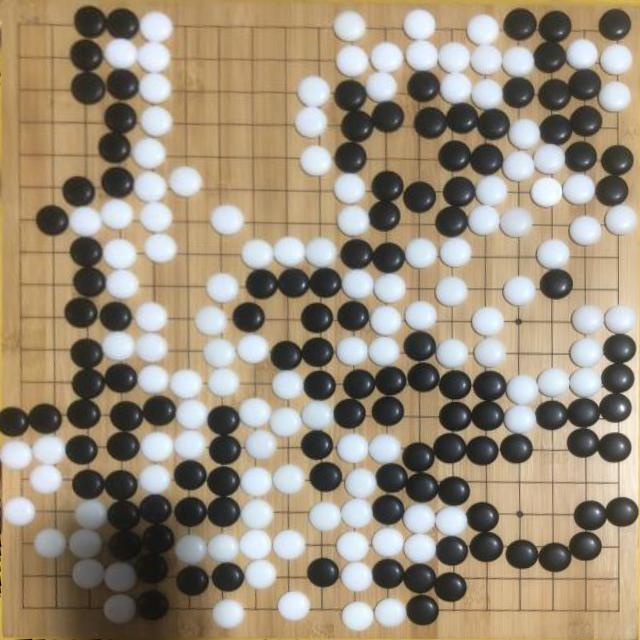blackstone: (468, 142, 504, 176), (533, 40, 568, 74), (340, 110, 374, 144), (538, 78, 572, 112), (445, 102, 479, 136), (568, 67, 602, 101), (71, 72, 106, 105), (503, 8, 538, 41), (106, 499, 141, 532), (598, 8, 633, 41), (64, 297, 100, 329), (108, 401, 144, 433), (68, 236, 104, 268), (210, 562, 246, 594), (107, 529, 143, 561), (569, 105, 603, 138), (539, 113, 573, 146), (71, 368, 105, 401), (595, 175, 629, 208), (104, 469, 138, 502), (600, 144, 634, 177), (70, 38, 104, 71), (370, 101, 405, 133), (207, 496, 242, 528), (538, 10, 573, 42), (141, 523, 176, 555), (402, 563, 437, 595), (66, 399, 102, 430), (135, 552, 171, 583), (503, 76, 536, 109), (414, 107, 447, 140), (74, 5, 107, 38), (300, 302, 334, 334), (334, 141, 368, 173), (101, 166, 135, 198), (340, 238, 374, 270), (142, 395, 176, 427), (370, 170, 404, 202), (438, 140, 472, 172), (62, 175, 96, 207), (442, 175, 476, 207), (564, 140, 598, 172), (104, 101, 138, 133), (476, 108, 510, 140), (106, 68, 140, 100), (28, 403, 62, 435), (207, 465, 241, 497), (602, 333, 636, 365), (105, 8, 139, 40), (574, 500, 608, 532), (72, 267, 107, 298), (106, 431, 141, 462), (539, 269, 574, 300), (472, 371, 507, 402), (432, 433, 467, 464), (470, 400, 505, 431), (469, 532, 504, 563), (596, 433, 632, 463), (403, 181, 436, 213), (372, 242, 405, 274), (99, 132, 132, 164), (301, 337, 335, 368), (434, 206, 468, 237), (207, 405, 241, 436), (300, 430, 334, 461), (309, 462, 343, 493), (65, 435, 99, 466), (174, 460, 208, 491), (36, 205, 70, 236), (372, 494, 406, 525), (404, 472, 438, 503), (139, 495, 173, 526), (176, 565, 210, 596), (435, 536, 469, 567), (566, 428, 600, 459), (372, 559, 406, 590), (604, 497, 638, 528), (136, 590, 170, 621), (565, 398, 600, 428), (232, 302, 265, 333), (309, 268, 342, 299), (334, 80, 367, 111), (72, 468, 105, 499), (406, 595, 439, 626), (99, 302, 133, 332), (104, 364, 138, 394), (403, 331, 437, 361), (277, 268, 311, 298), (70, 339, 104, 369), (332, 399, 366, 429), (371, 396, 405, 426), (342, 369, 376, 399), (438, 370, 472, 400), (407, 362, 441, 392), (174, 497, 208, 527), (374, 463, 408, 493), (438, 402, 472, 432), (535, 400, 569, 430), (437, 476, 471, 506), (466, 502, 500, 532), (600, 364, 634, 394), (598, 393, 632, 423), (433, 573, 467, 603), (568, 532, 602, 562), (538, 542, 572, 572), (246, 269, 278, 300), (408, 71, 440, 102), (402, 442, 434, 473), (337, 301, 370, 331), (368, 201, 401, 231), (374, 366, 407, 396), (500, 434, 533, 464), (307, 558, 340, 588), (208, 436, 242, 465), (465, 436, 499, 465), (505, 540, 539, 569), (270, 340, 302, 370), (304, 370, 336, 400), (0, 406, 29, 437)
whitestone: (597, 80, 633, 114), (507, 118, 541, 152), (100, 198, 135, 231), (335, 44, 370, 77), (210, 203, 245, 236), (136, 42, 172, 74), (134, 170, 168, 203), (562, 173, 596, 206), (469, 43, 503, 76), (294, 106, 328, 139), (599, 43, 633, 76), (240, 499, 275, 531), (504, 374, 539, 406), (238, 529, 273, 561), (139, 201, 174, 233), (536, 238, 571, 270), (71, 558, 106, 590), (138, 72, 173, 104), (568, 215, 603, 247), (139, 11, 174, 43), (68, 528, 104, 559), (168, 166, 204, 197), (533, 143, 566, 176), (176, 397, 210, 429), (140, 431, 174, 463), (138, 463, 172, 495), (341, 269, 375, 301), (135, 333, 169, 365), (102, 330, 136, 362), (74, 498, 108, 530), (371, 528, 405, 560), (403, 532, 437, 564), (468, 204, 502, 236), (336, 205, 370, 237), (333, 173, 367, 205), (502, 150, 536, 182), (103, 238, 137, 270), (568, 368, 602, 400), (365, 70, 399, 102), (499, 207, 533, 239), (568, 338, 602, 370), (69, 205, 103, 237), (132, 138, 166, 170), (501, 46, 535, 78), (530, 176, 564, 208), (370, 42, 404, 74), (299, 145, 333, 177), (104, 38, 138, 70), (566, 38, 600, 70), (604, 204, 638, 236), (403, 8, 437, 40), (369, 305, 404, 336), (105, 270, 140, 301), (503, 404, 538, 435), (344, 468, 377, 500), (340, 498, 373, 530), (240, 466, 273, 498), (195, 304, 228, 336), (135, 301, 168, 333), (471, 78, 504, 110), (440, 72, 472, 105), (438, 42, 471, 74), (604, 304, 637, 336), (341, 600, 374, 632), (174, 430, 208, 461), (238, 397, 272, 428), (137, 364, 171, 395), (169, 368, 203, 399), (336, 531, 370, 562), (272, 529, 306, 560), (32, 435, 66, 466), (536, 368, 570, 399), (240, 238, 274, 269), (206, 272, 240, 303), (244, 559, 278, 590), (29, 464, 63, 495), (570, 305, 604, 336), (405, 40, 439, 71), (139, 105, 173, 136), (32, 528, 66, 559), (297, 75, 331, 106), (3, 497, 37, 528), (466, 13, 500, 44), (277, 591, 311, 622), (211, 599, 245, 630), (305, 236, 337, 268), (336, 432, 369, 463), (245, 429, 278, 460), (405, 238, 438, 269), (175, 534, 208, 565), (435, 276, 468, 307), (333, 10, 366, 41), (368, 434, 402, 464), (237, 334, 271, 364), (404, 301, 438, 331), (272, 464, 306, 494), (207, 368, 241, 398), (308, 502, 342, 532), (373, 272, 407, 302), (434, 506, 468, 536), (470, 306, 504, 336), (340, 562, 374, 592), (503, 276, 537, 306), (144, 234, 178, 264), (272, 369, 304, 400), (440, 237, 472, 268), (476, 175, 508, 206), (274, 236, 306, 267), (0, 439, 32, 470), (103, 593, 135, 624), (301, 400, 334, 430), (269, 407, 302, 437), (368, 336, 401, 366), (403, 504, 436, 534), (474, 338, 507, 368), (207, 534, 240, 564), (336, 336, 368, 366), (436, 339, 468, 369), (104, 562, 136, 592), (374, 598, 406, 628), (203, 338, 236, 367)
